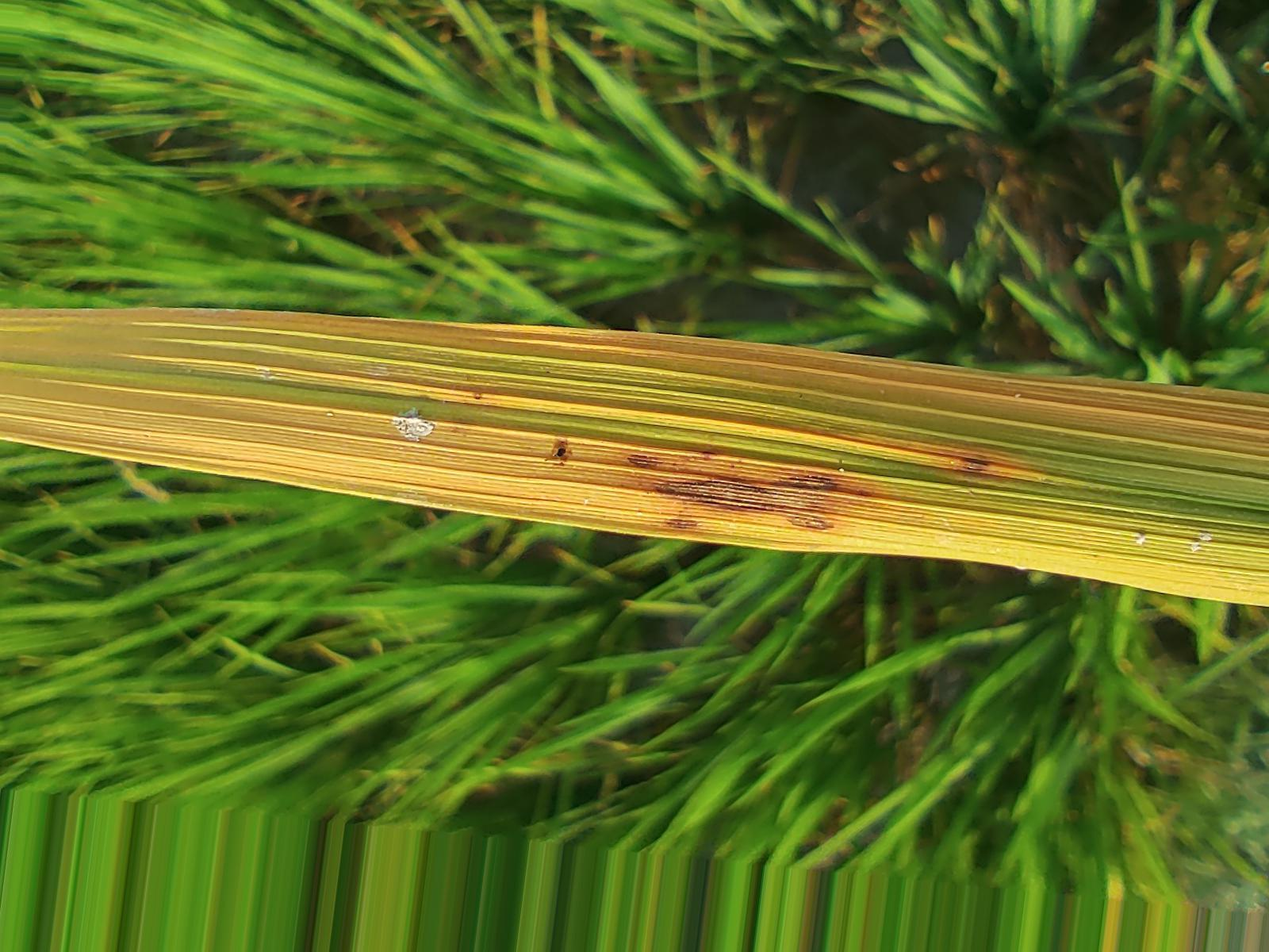LEAF BLAST: (654, 476, 840, 530)
